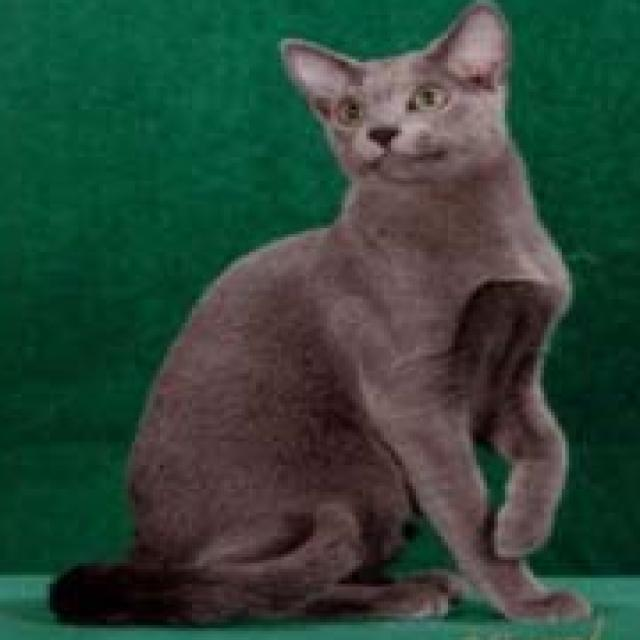Russian Blue: (46, 0, 594, 631)
